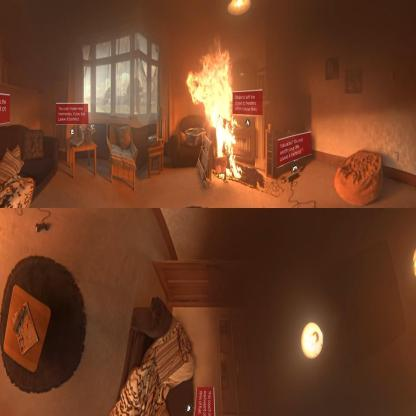fire: (184, 39, 240, 179)
